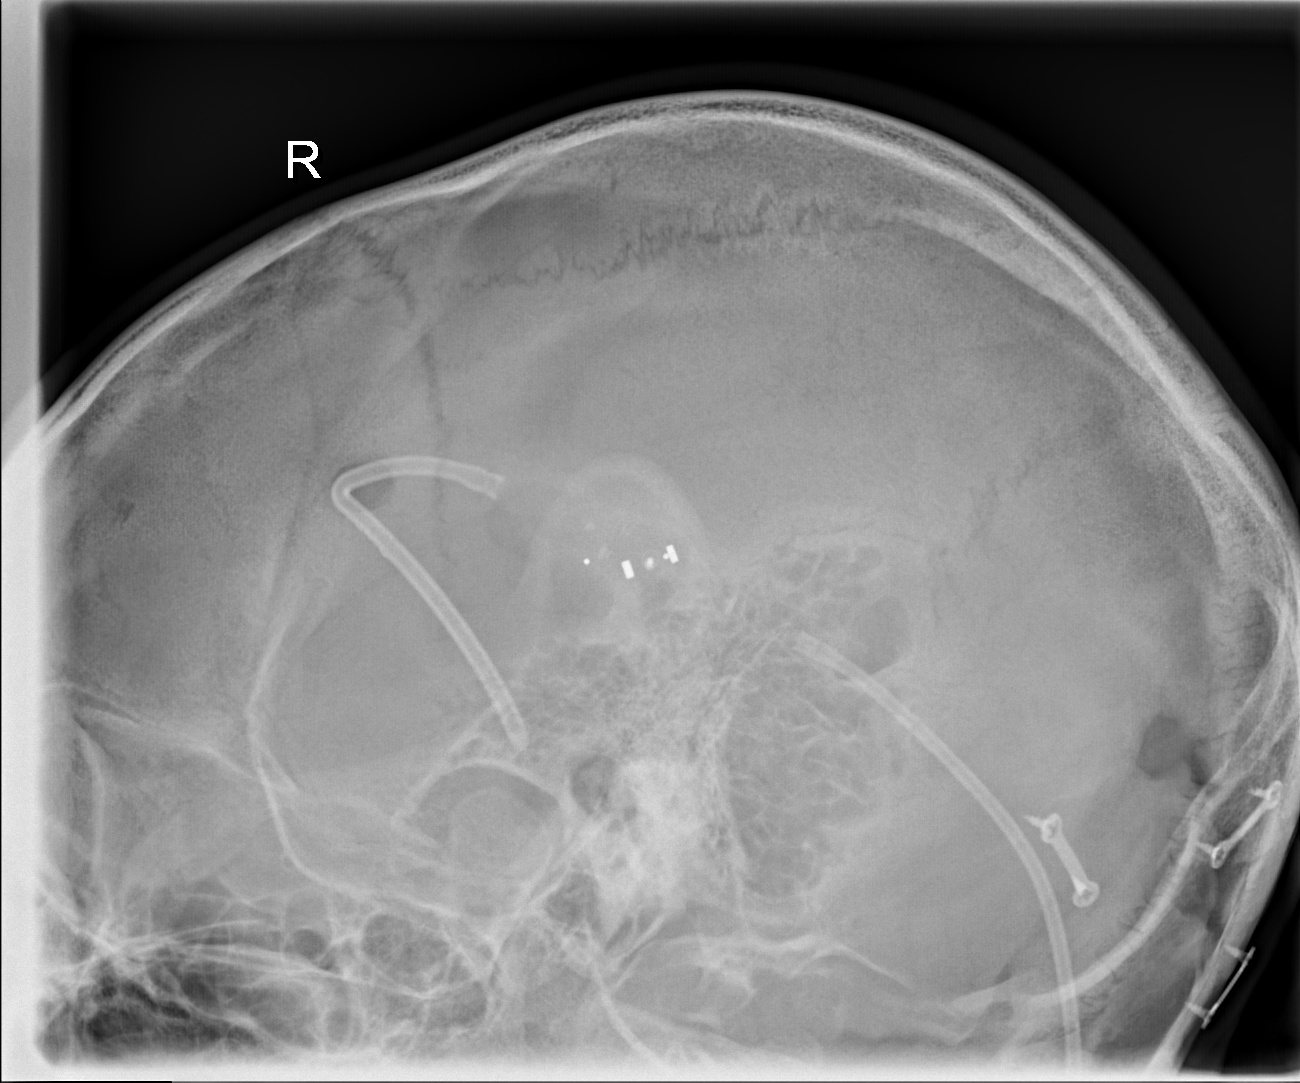Codman Certas: (580, 516, 690, 613)
